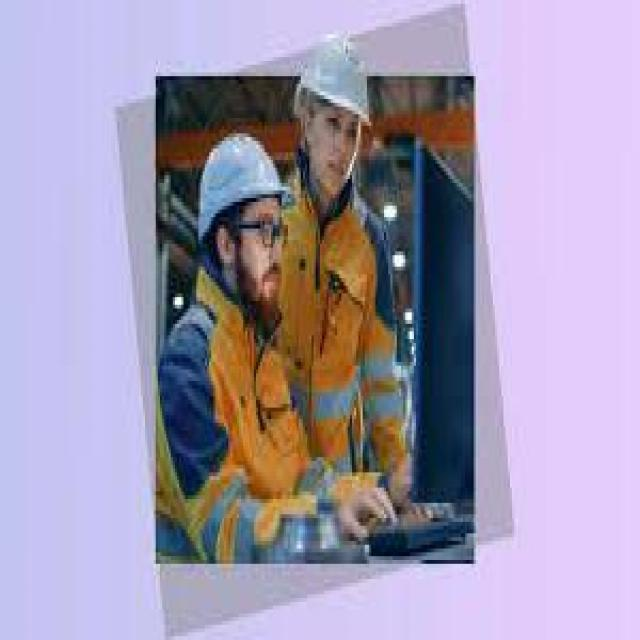Reflective-Jacket: (141, 282, 316, 560), (269, 179, 403, 537)
Safety-Helmet: (188, 122, 294, 244), (288, 30, 382, 141)
